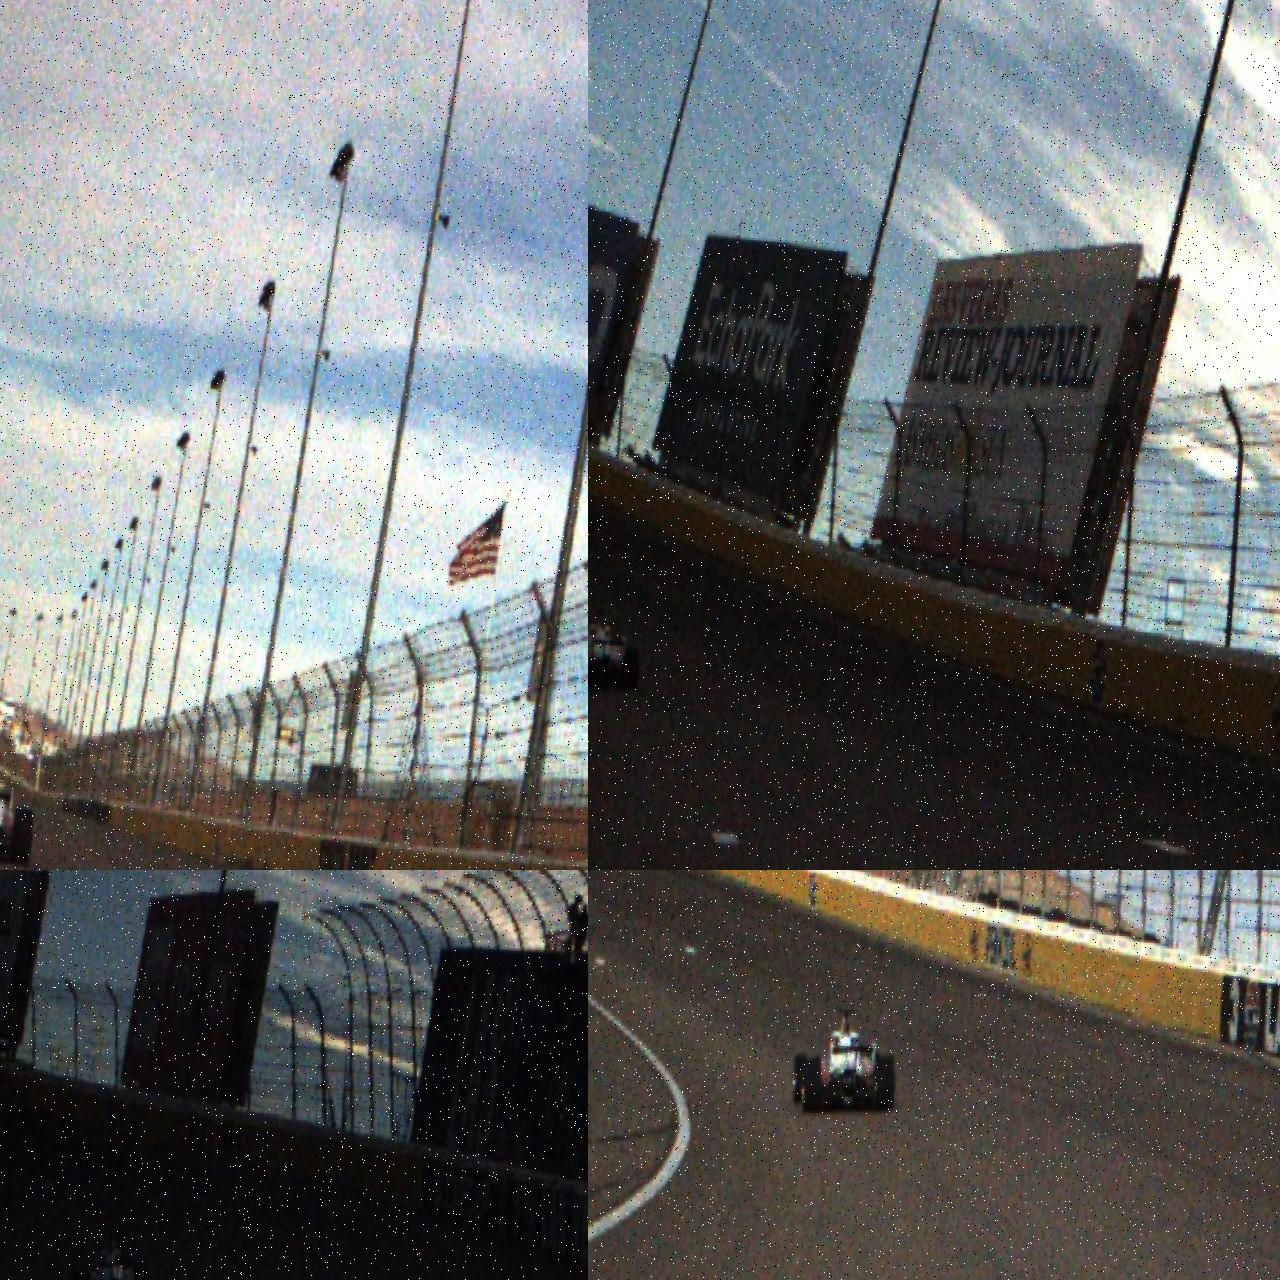AV: (790, 1002, 901, 1121), (588, 604, 642, 692), (0, 745, 38, 867), (64, 1230, 155, 1280)
Wheel: (874, 1054, 898, 1114), (11, 808, 34, 866), (801, 1057, 822, 1115), (790, 1053, 808, 1105), (622, 646, 640, 692), (132, 1267, 152, 1280)
